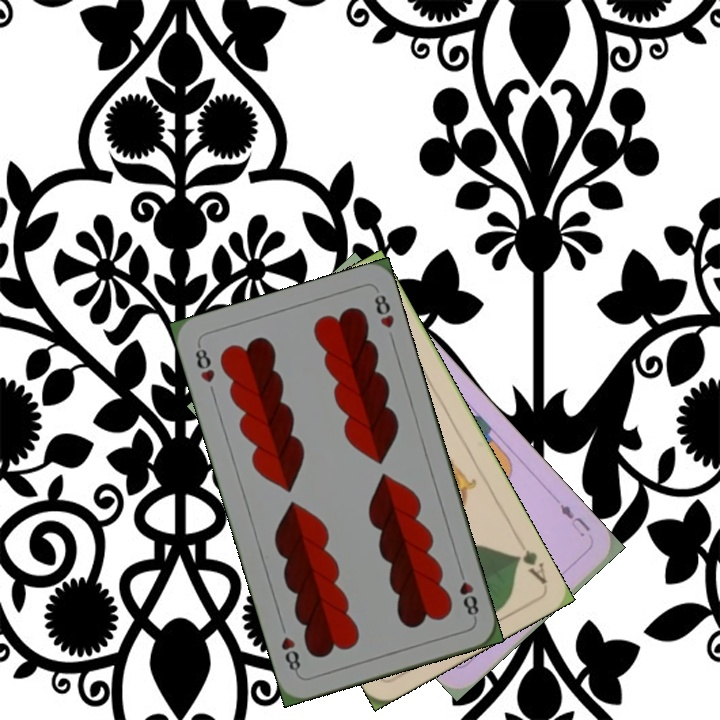EU: (555, 499, 593, 540)
GA: (510, 545, 550, 588)
H8: (454, 564, 482, 622), (191, 340, 217, 386)
